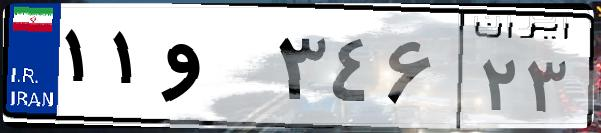1: (57, 26, 110, 100), (110, 28, 158, 98)
2: (475, 38, 525, 113)
3: (270, 28, 330, 110), (525, 38, 570, 115)
4: (330, 28, 385, 110)
6: (385, 28, 445, 110)
و: (158, 20, 270, 120)
